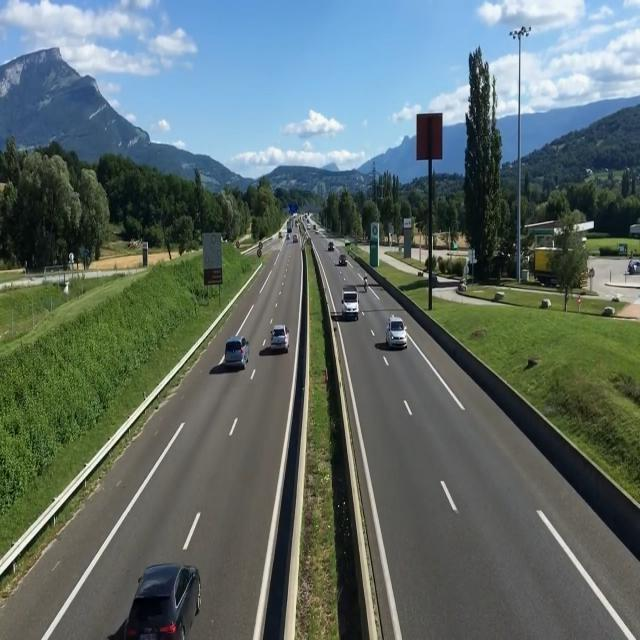Car: (120, 561, 201, 640), (376, 315, 412, 353), (223, 333, 247, 369), (265, 322, 291, 354), (337, 253, 349, 266), (293, 232, 299, 243), (327, 242, 335, 250)
Cycle: (361, 272, 371, 293)
Van: (341, 282, 359, 318)
